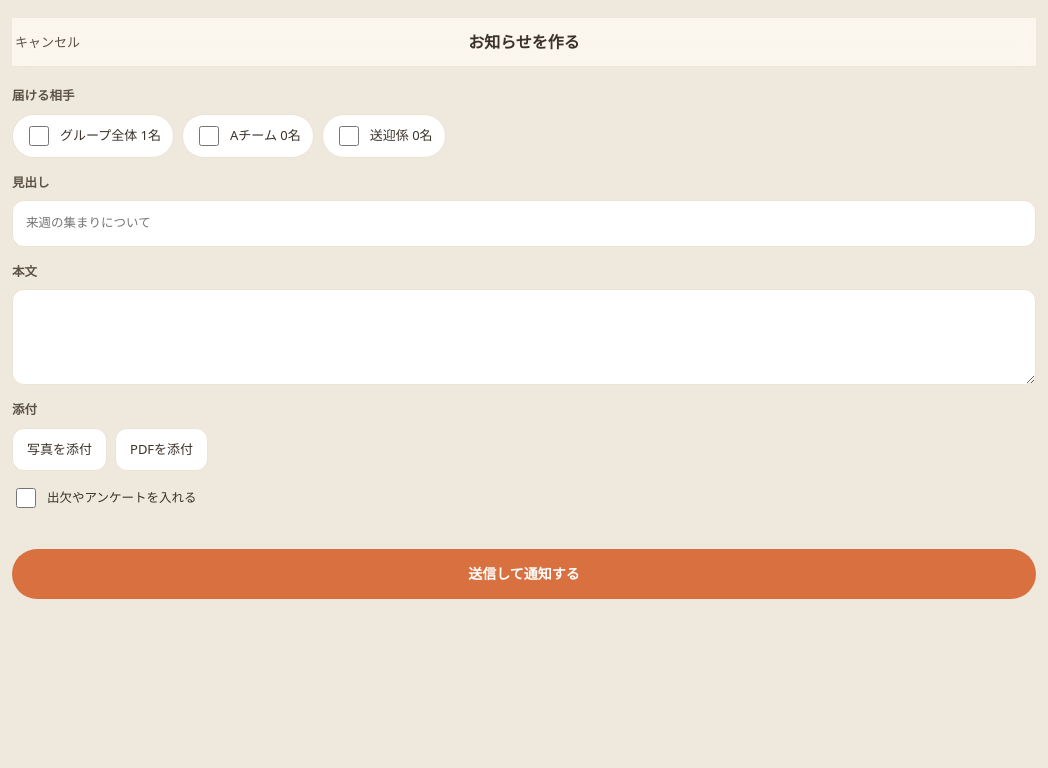
Scenario: ComposeView › refuses to send with no target selected
Step 1. Type "こんにちは" into the text box with test id "body" → (524,337), box [12,289,1036,385]
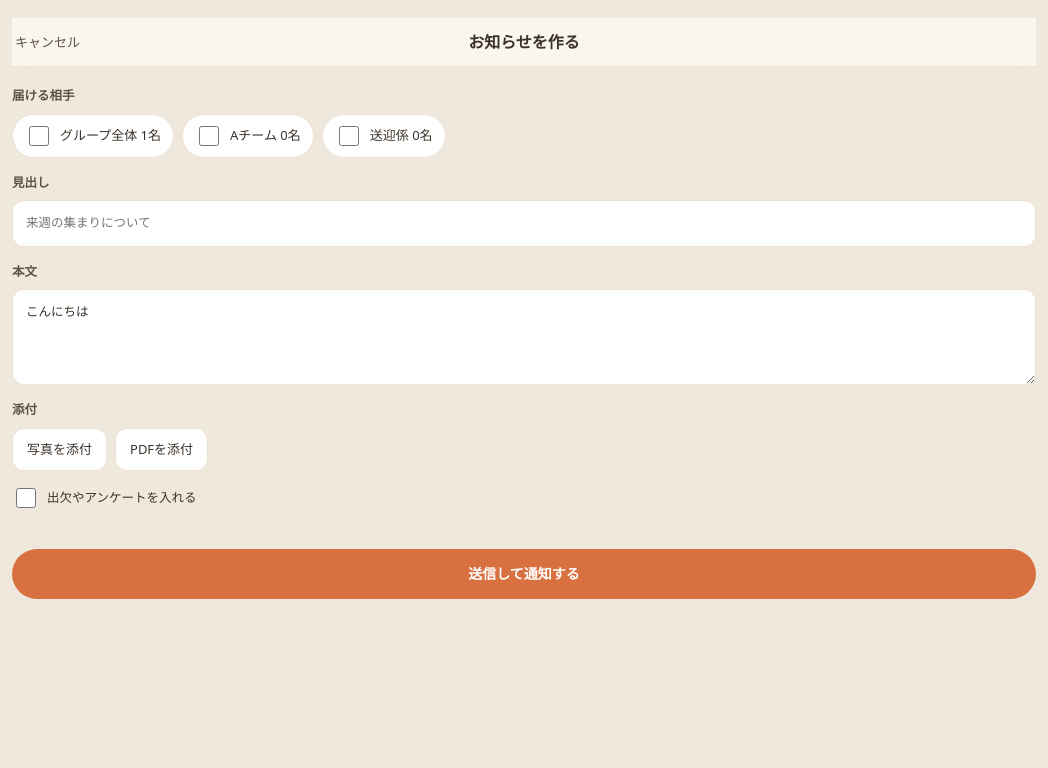
Step 2. Click the button with test id "submit" → (524,574), box [12,549,1036,599]
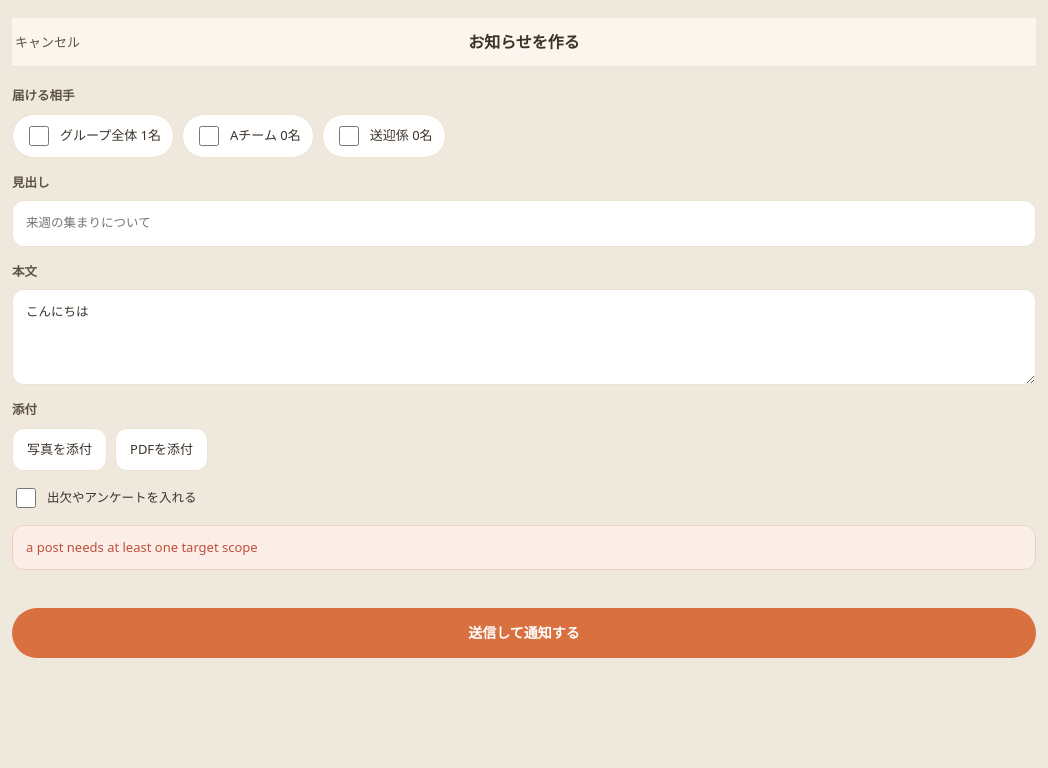
Expected: the text "a post needs at least one target scope" is shown, [12,525,1036,570]
